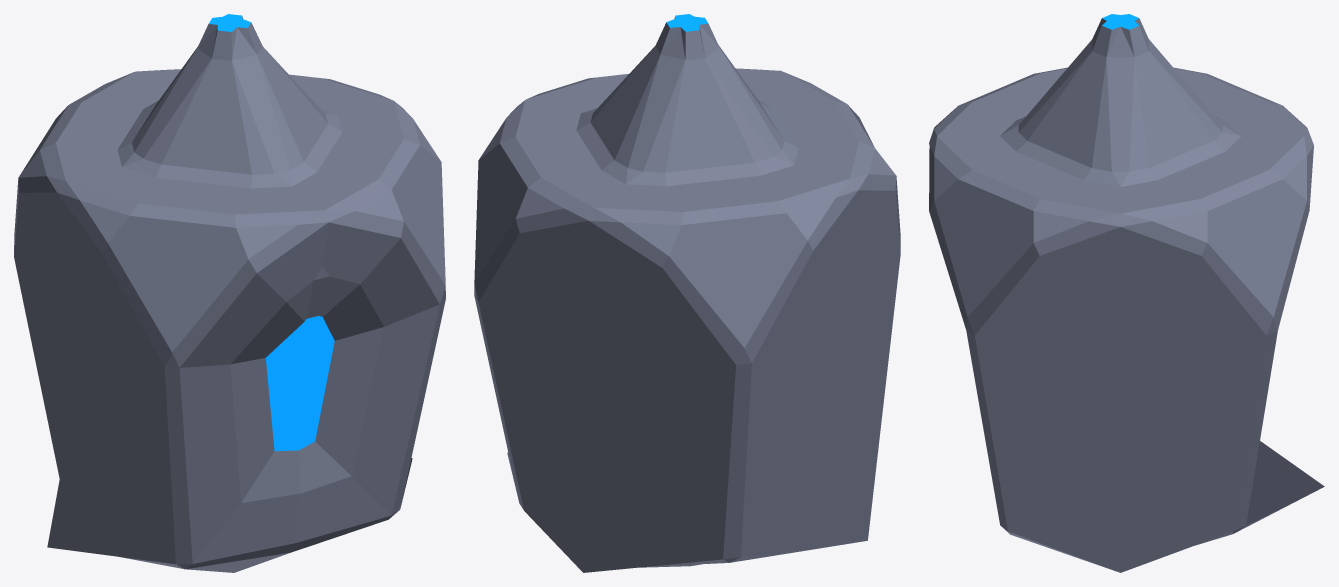
File: ZiplineHolder.fbx
3 renders of one model, left to right at view 1: azimuth 30°, elevation 25°; view 2: azimuth 150°, elevation 25°; view 3: azimuth 270°, elevation 25°, orthographic. The views are drawn at different scales.
Parts seen in each view (by area): view 1: ZiplineHolder; view 2: ZiplineHolder; view 3: ZiplineHolder.
Boxes of the visible parts, x1,y1,x2,y2 form: ZiplineHolder: [14, 14, 445, 572]; ZiplineHolder: [474, 14, 900, 572]; ZiplineHolder: [929, 14, 1324, 572].
Size of the model in its own units: 211 by 303 by 205.
